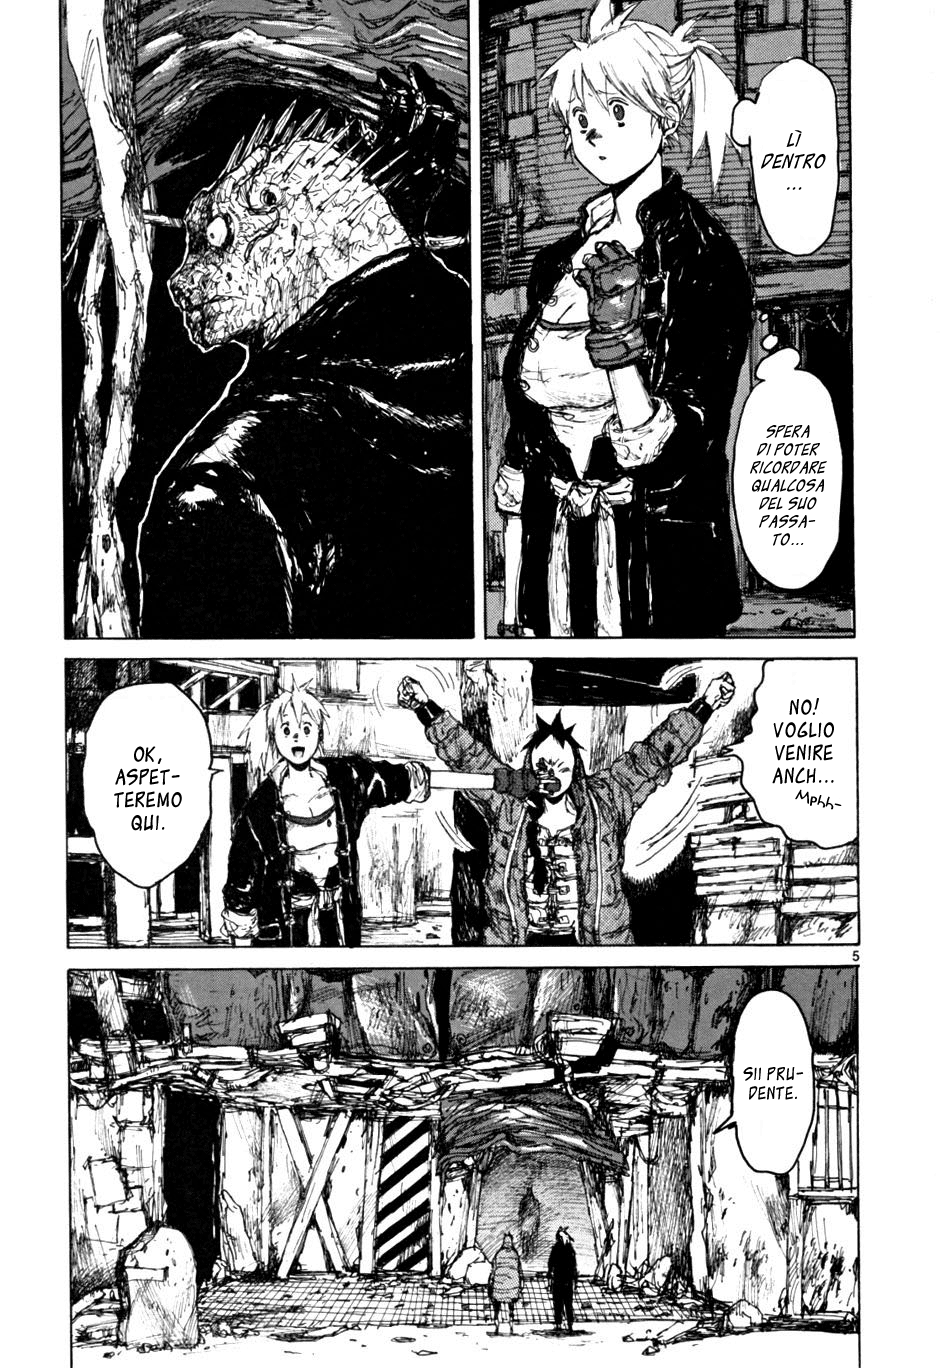Baloon: (729, 328, 844, 590), (84, 677, 217, 886), (727, 661, 856, 854), (731, 57, 842, 257), (713, 988, 821, 1182)
Vignetta: (69, 971, 860, 1368), (61, 1, 473, 642), (481, 1, 856, 638), (66, 661, 863, 946)
